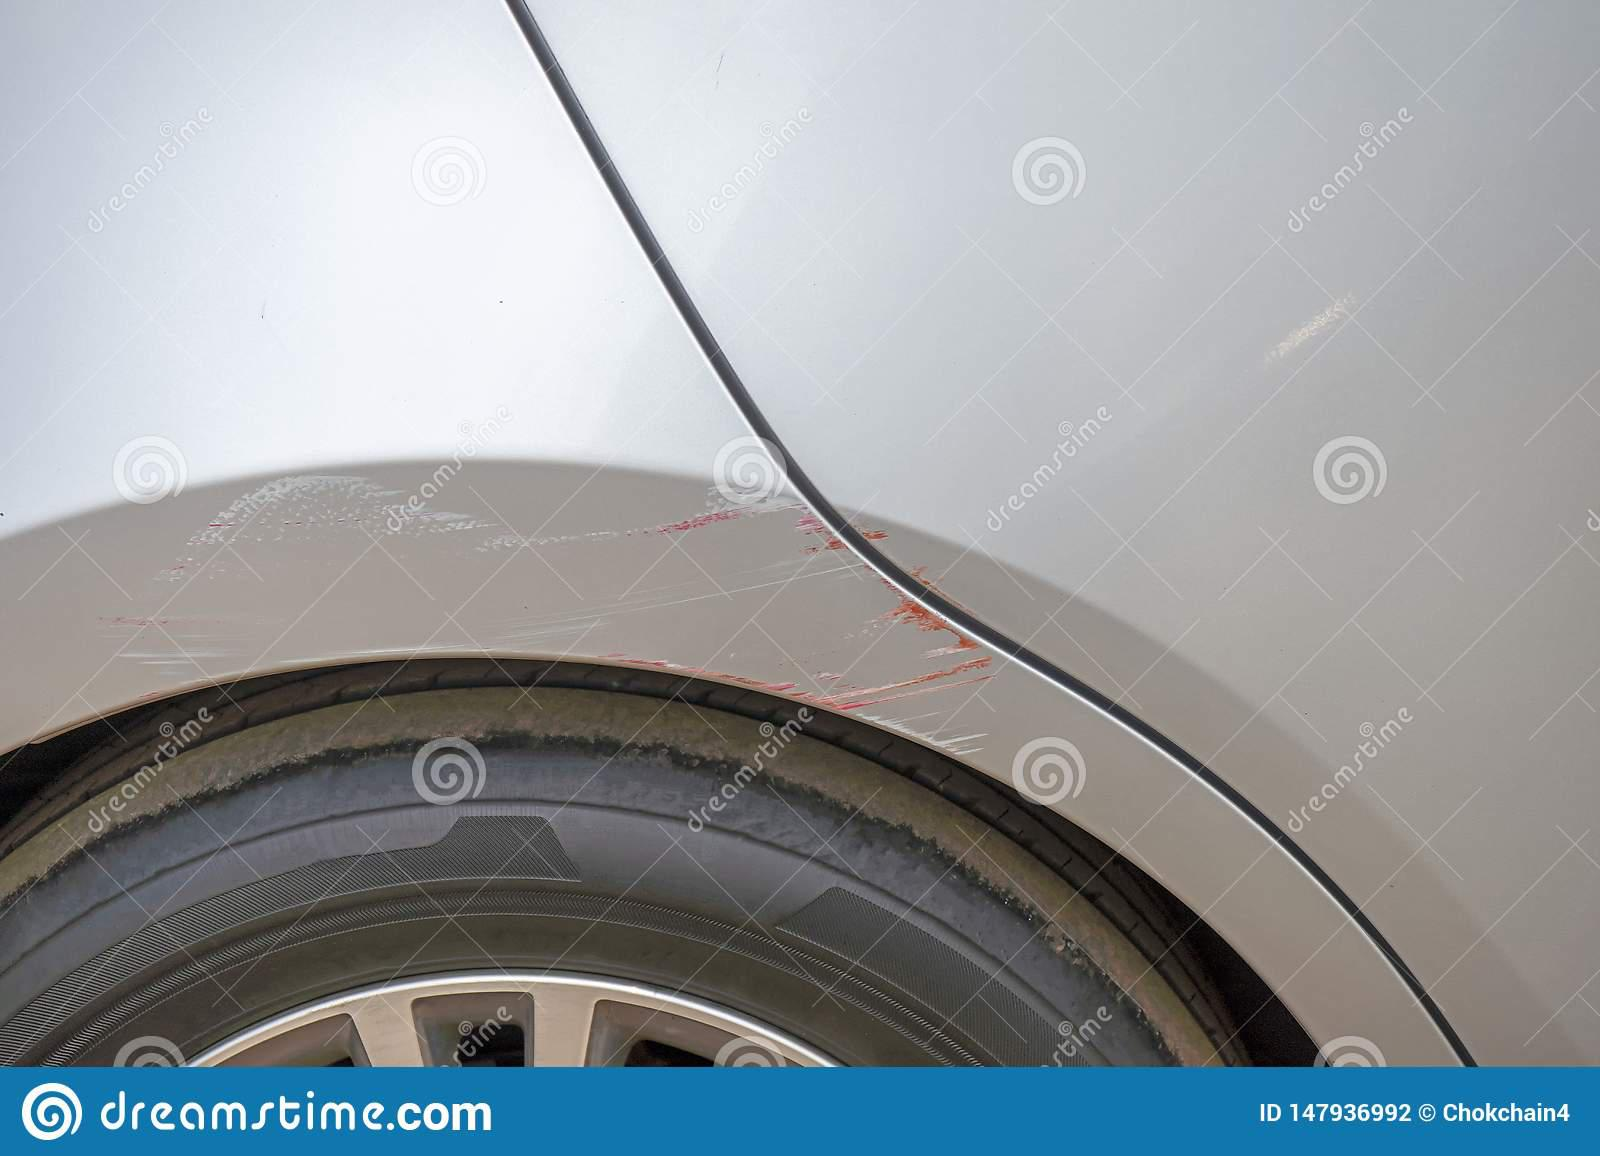doorouter-dent: (711, 6, 1599, 901)
fender-dent: (0, 0, 761, 929)
